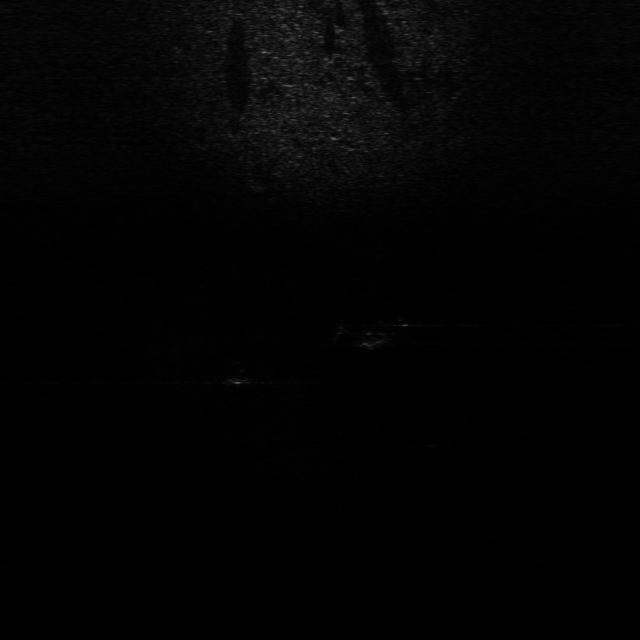ball: (222, 358, 262, 389)
human body: (337, 310, 418, 353)
